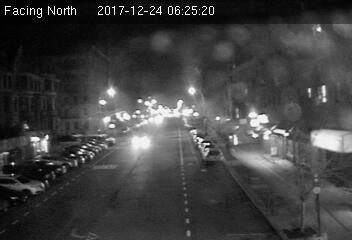car: (201, 148, 223, 163)
